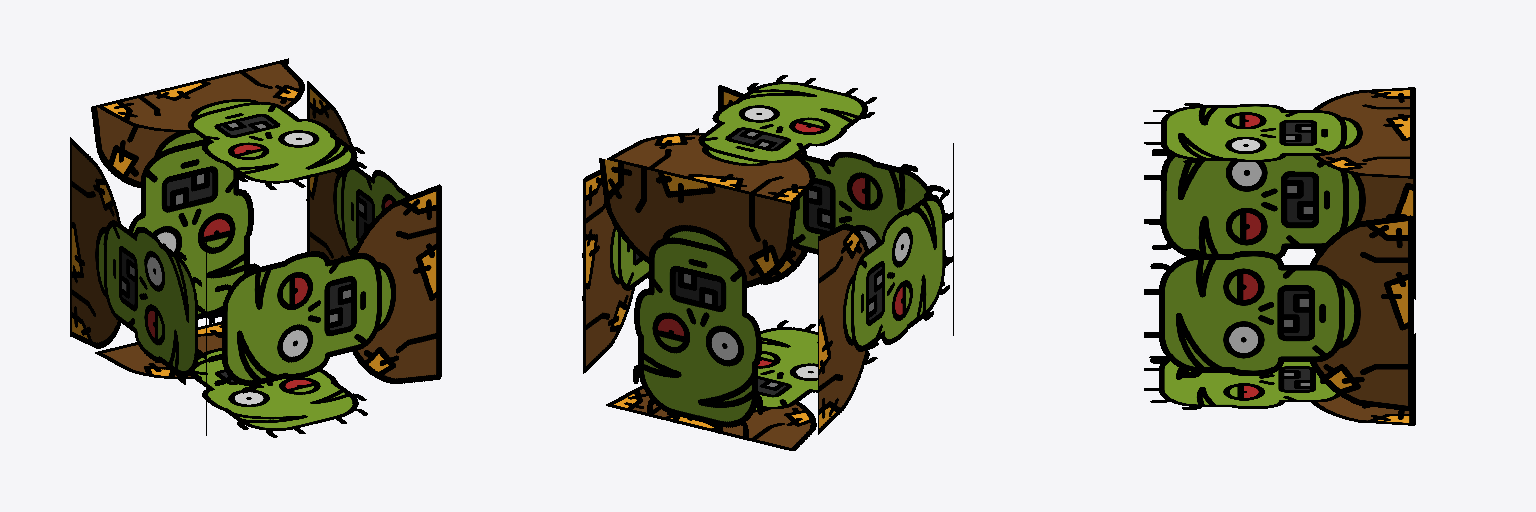
3 views of the same model, side by side, from view 1: azimuth 30°, elevation 25°; view 2: azimuth 150°, elevation 25°; view 3: azimuth 270°, elevation 25° (orthographic).
Visible parts, largest first — view 1: Cube; view 2: Cube; view 3: Cube.
Boxes of the visible parts, x1=… form: Cube: x1=70, y1=58, x2=441, y2=437; Cube: x1=582, y1=75, x2=953, y2=450; Cube: x1=1144, y1=87, x2=1415, y2=425.
Size of the model in its own units: 3.31 by 3.31 by 3.31.
1 materials, 1 textured.